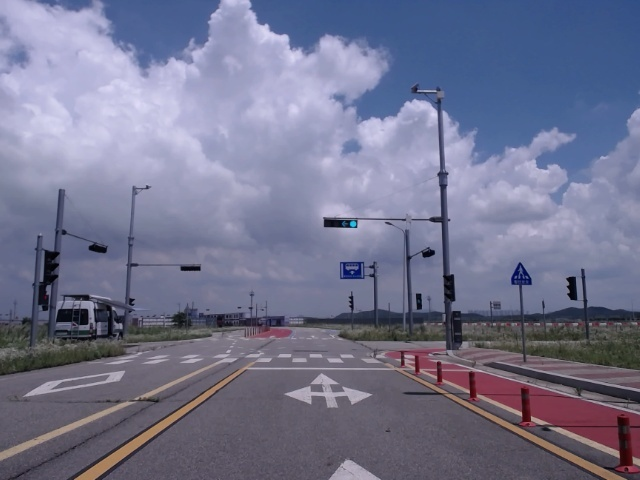all_green_4: (324, 216, 357, 227)
